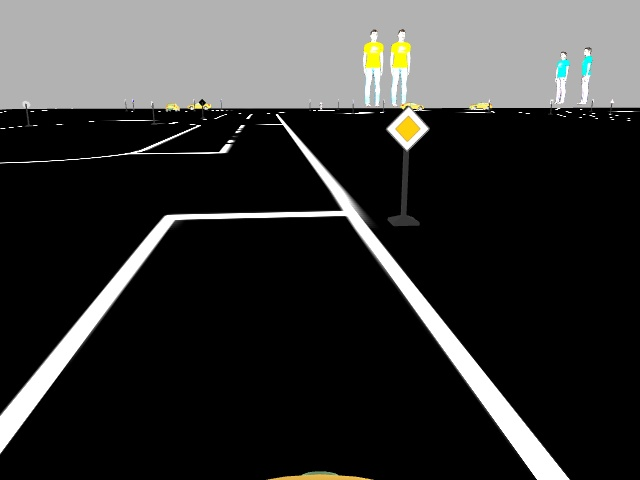Priority: (389, 106, 429, 147)
